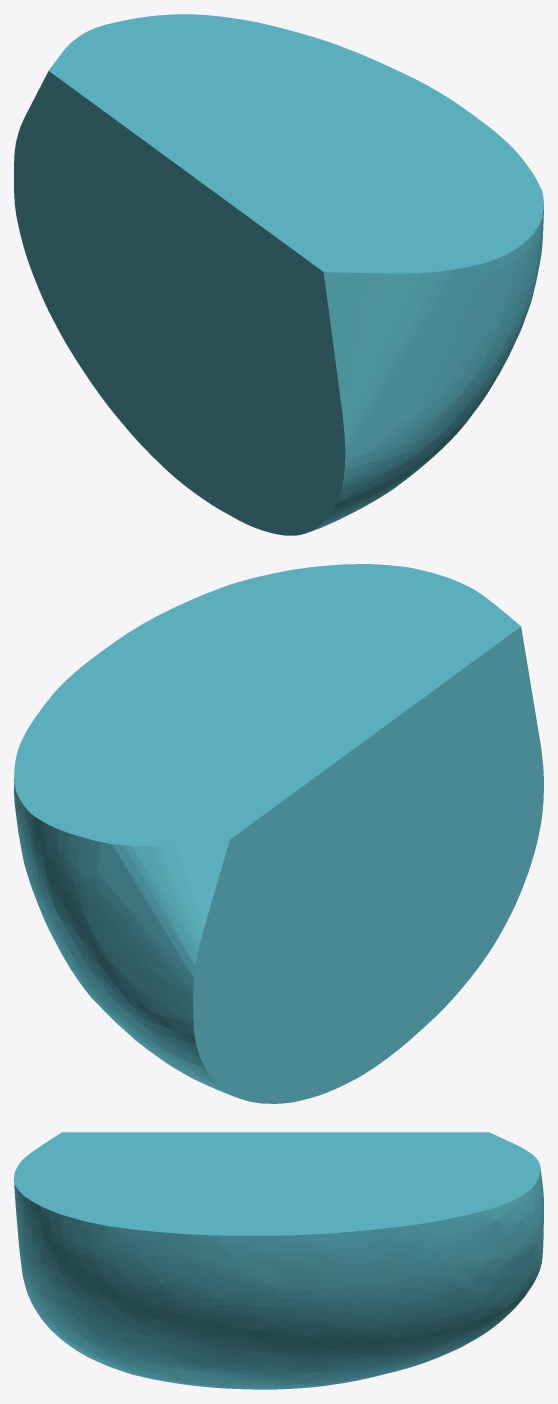
The model's file is convex_piece_2.obj.
3 views of the same model, one above another, from view 1: azimuth 30°, elevation 25°; view 2: azimuth 150°, elevation 25°; view 3: azimuth 270°, elevation 25° (orthographic). The views are drawn at different scales.
Size of the model in its own units: 0.0338 by 0.0373 by 0.0731.
